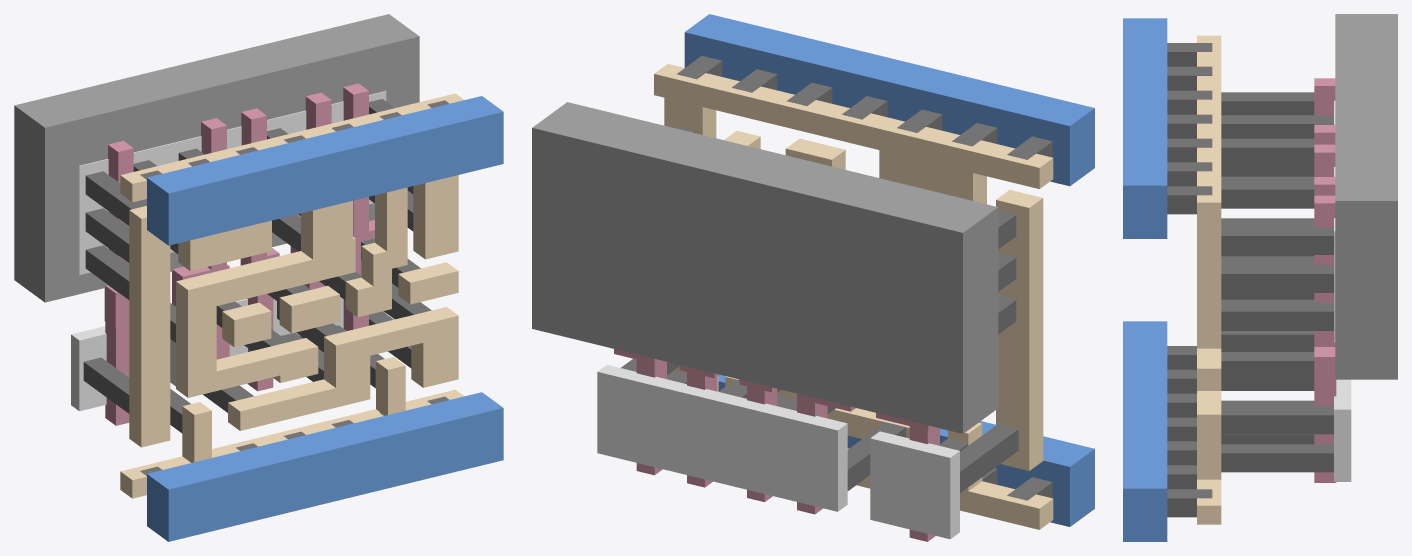
File: sky130_fd_sc_hd__o22a_1.gds.gltf
3 renders of one model, left to right at view 1: azimuth 30°, elevation 25°; view 2: azimuth 150°, elevation 25°; view 3: azimuth 270°, elevation 25°, orthographic. The views are drawn at different scales.
Parts seen in each view (by area): view 1: sky130_fd_sc_hd__o22a_1_li1, sky130_fd_sc_hd__o22a_1_met1, sky130_fd_sc_hd__o22a_1_nwell, sky130_fd_sc_hd__o22a_1_licon, sky130_fd_sc_hd__o22a_1_poly, sky130_fd_sc_hd__o22a_1_diff, sky130_fd_sc_hd__o22a_1_mcon; view 2: sky130_fd_sc_hd__o22a_1_nwell, sky130_fd_sc_hd__o22a_1_li1, sky130_fd_sc_hd__o22a_1_diff, sky130_fd_sc_hd__o22a_1_met1, sky130_fd_sc_hd__o22a_1_licon, sky130_fd_sc_hd__o22a_1_mcon, sky130_fd_sc_hd__o22a_1_poly; view 3: sky130_fd_sc_hd__o22a_1_licon, sky130_fd_sc_hd__o22a_1_nwell, sky130_fd_sc_hd__o22a_1_met1, sky130_fd_sc_hd__o22a_1_mcon, sky130_fd_sc_hd__o22a_1_li1, sky130_fd_sc_hd__o22a_1_poly, sky130_fd_sc_hd__o22a_1_diff.
Boxes of the visible parts, <box> form: sky130_fd_sc_hd__o22a_1_li1: <box>120,93,463,498</box>; sky130_fd_sc_hd__o22a_1_met1: <box>147,96,503,541</box>; sky130_fd_sc_hd__o22a_1_nwell: <box>14,14,419,302</box>; sky130_fd_sc_hd__o22a_1_licon: <box>83,99,431,433</box>; sky130_fd_sc_hd__o22a_1_poly: <box>104,83,374,425</box>; sky130_fd_sc_hd__o22a_1_diff: <box>71,91,386,411</box>; sky130_fd_sc_hd__o22a_1_mcon: <box>140,100,449,475</box>; sky130_fd_sc_hd__o22a_1_nwell: <box>532,102,998,433</box>; sky130_fd_sc_hd__o22a_1_li1: <box>654,64,1053,529</box>; sky130_fd_sc_hd__o22a_1_diff: <box>597,364,959,539</box>; sky130_fd_sc_hd__o22a_1_met1: <box>684,14,1094,526</box>; sky130_fd_sc_hd__o22a_1_licon: <box>621,126,1018,492</box>; sky130_fd_sc_hd__o22a_1_mcon: <box>677,56,1052,500</box>; sky130_fd_sc_hd__o22a_1_poly: <box>614,349,939,541</box>; sky130_fd_sc_hd__o22a_1_licon: <box>1221,92,1333,472</box>; sky130_fd_sc_hd__o22a_1_nwell: <box>1335,14,1397,379</box>; sky130_fd_sc_hd__o22a_1_met1: <box>1123,18,1167,541</box>; sky130_fd_sc_hd__o22a_1_mcon: <box>1167,43,1212,517</box>; sky130_fd_sc_hd__o22a_1_li1: <box>1197,35,1221,524</box>; sky130_fd_sc_hd__o22a_1_poly: <box>1314,78,1336,482</box>; sky130_fd_sc_hd__o22a_1_diff: <box>1334,100,1351,481</box>.
Size of the model in its own units: 3.6 by 3.2 by 2.24.
